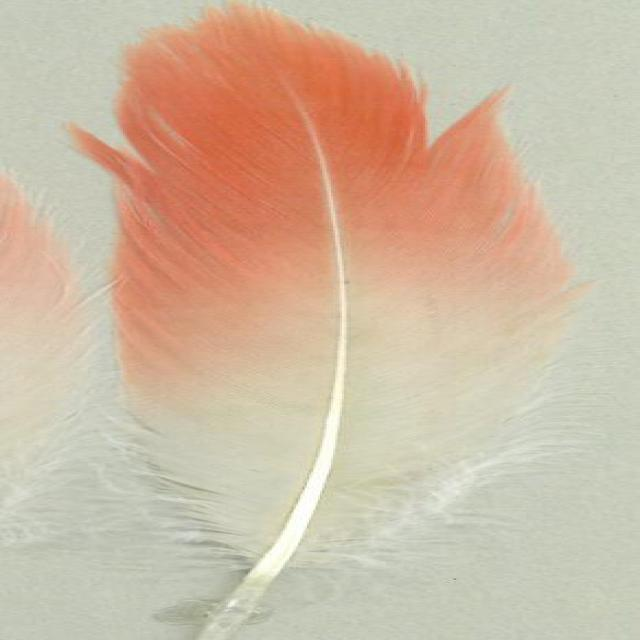feather: (66, 0, 583, 640)
